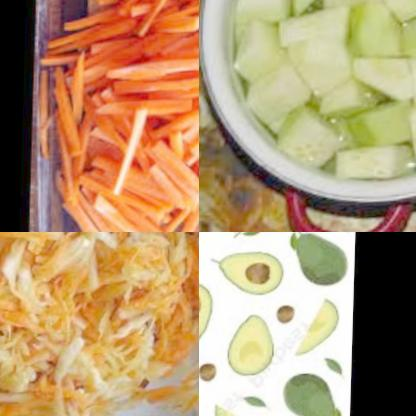avocado: (212, 308, 288, 388), (215, 253, 292, 305), (285, 303, 352, 360), (273, 366, 344, 416), (285, 232, 339, 292), (199, 282, 223, 355), (219, 232, 305, 250), (205, 393, 266, 416)
cabbage: (68, 313, 157, 416), (52, 232, 119, 297), (0, 340, 31, 416)
carrot: (54, 0, 199, 232), (160, 240, 199, 374), (0, 276, 52, 338)
vegetable marrow: (226, 0, 416, 184)
